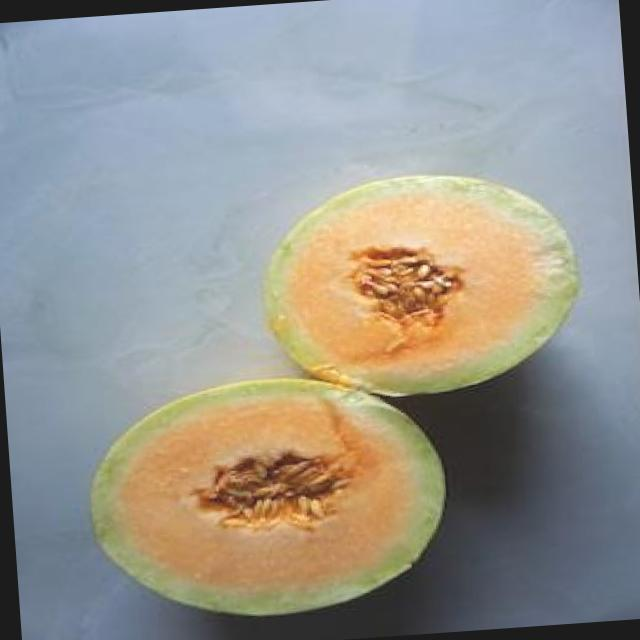cantaloupe: (85, 366, 454, 624), (252, 162, 588, 402)
